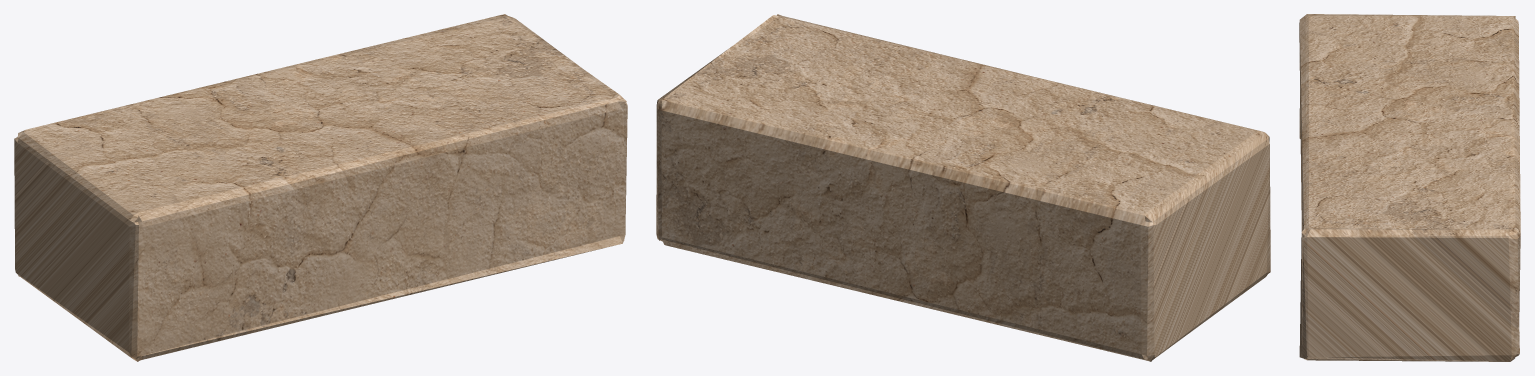
Rendered from border_stone_master.glb.
3 views of the same model, side by side, from view 1: azimuth 30°, elevation 25°; view 2: azimuth 150°, elevation 25°; view 3: azimuth 270°, elevation 25° (orthographic). The views are drawn at different scales.
Visible parts, largest first — view 1: Dressed_Stone_Edge_Master; view 2: Dressed_Stone_Edge_Master; view 3: Dressed_Stone_Edge_Master.
Part boxes in pixels (left/top/right/bottom): Dressed_Stone_Edge_Master: left=14, top=14, right=627, bottom=361; Dressed_Stone_Edge_Master: left=656, top=14, right=1270, bottom=361; Dressed_Stone_Edge_Master: left=1299, top=14, right=1520, bottom=361.
Size of the model in its own units: 0.3221 by 0.0919 by 0.1371.
Materials: 1 (1 with a texture image).
